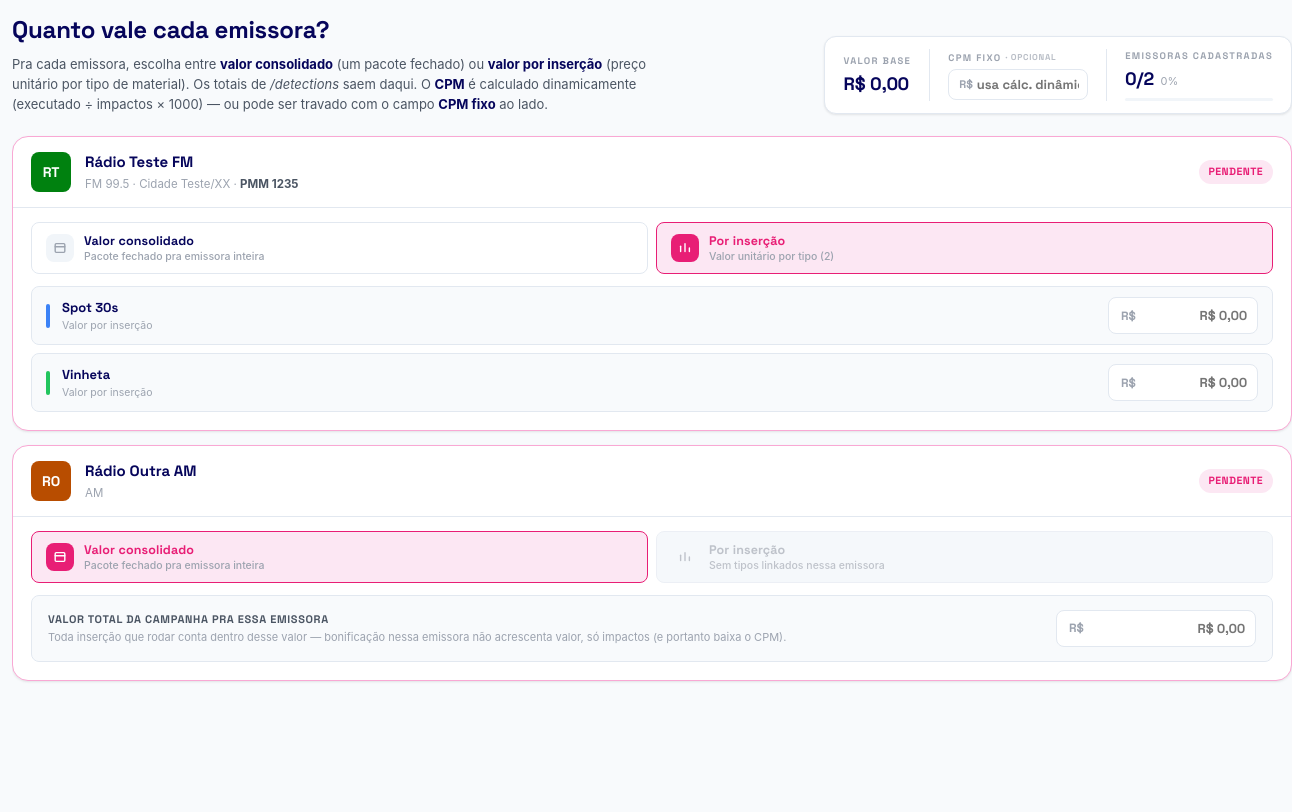
PricingStep — cartões por emissora › por inserção só fica OK com TODOS os tipos preenchidos; o motivo aponta o que falta
expect the text "Rádio Teste FM" is shown: met, box [85,152,193,171]
Type "80" into the field with placeholder "R$ 0,00" in the row of "Spot 30s" at {"x": 1199, "y": 316}, box [1142,298,1257,333]
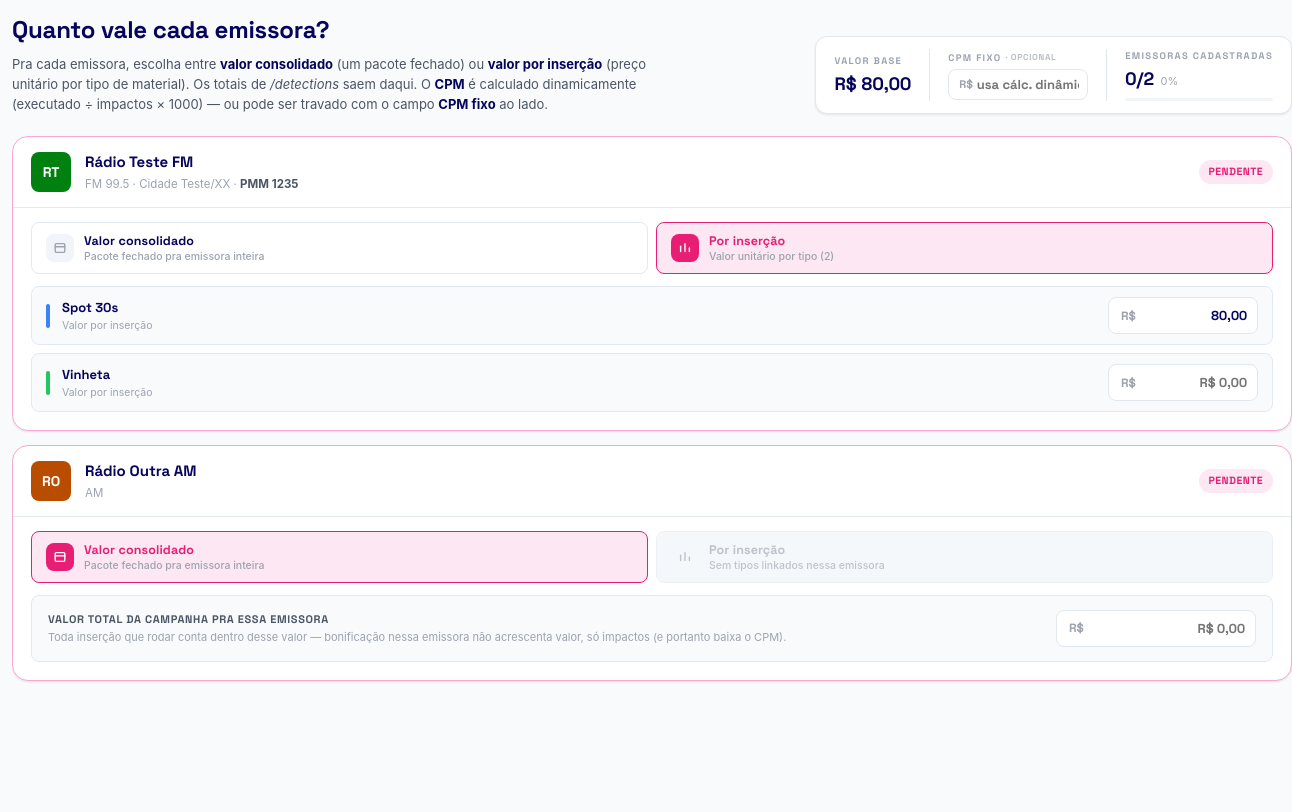
Type "0" into the field with placeholder "R$ 0,00" in the row of "Vinheta" at {"x": 1199, "y": 383}, box [1142,365,1257,400]
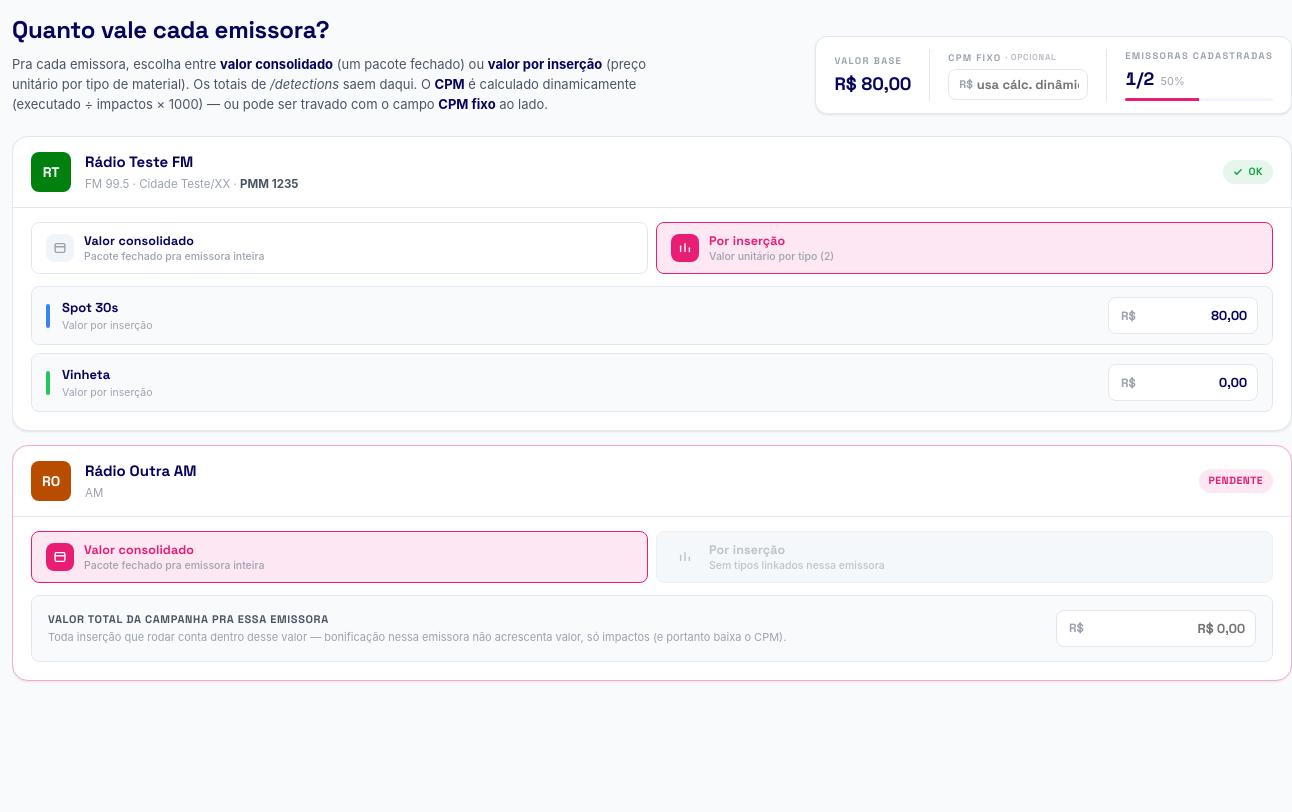
expect the text "OK" is shown: met, box [1224,160,1273,184]
